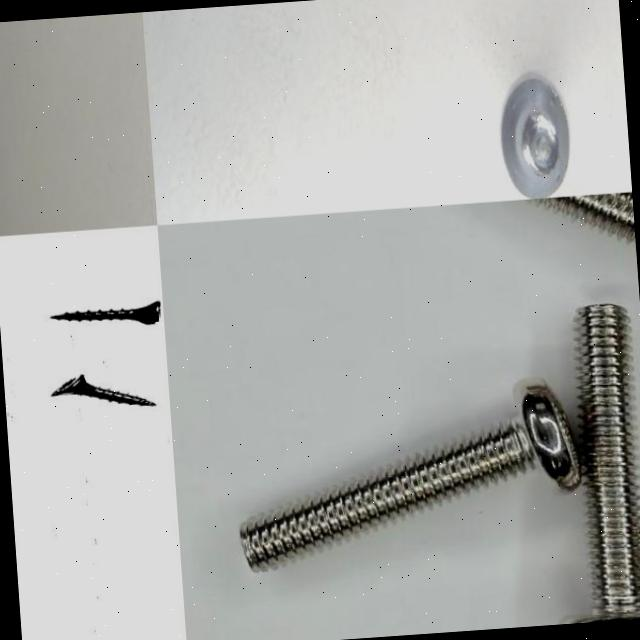Screw: (239, 385, 581, 572), (565, 303, 640, 624), (501, 77, 569, 198), (51, 374, 158, 405), (51, 300, 162, 324)
